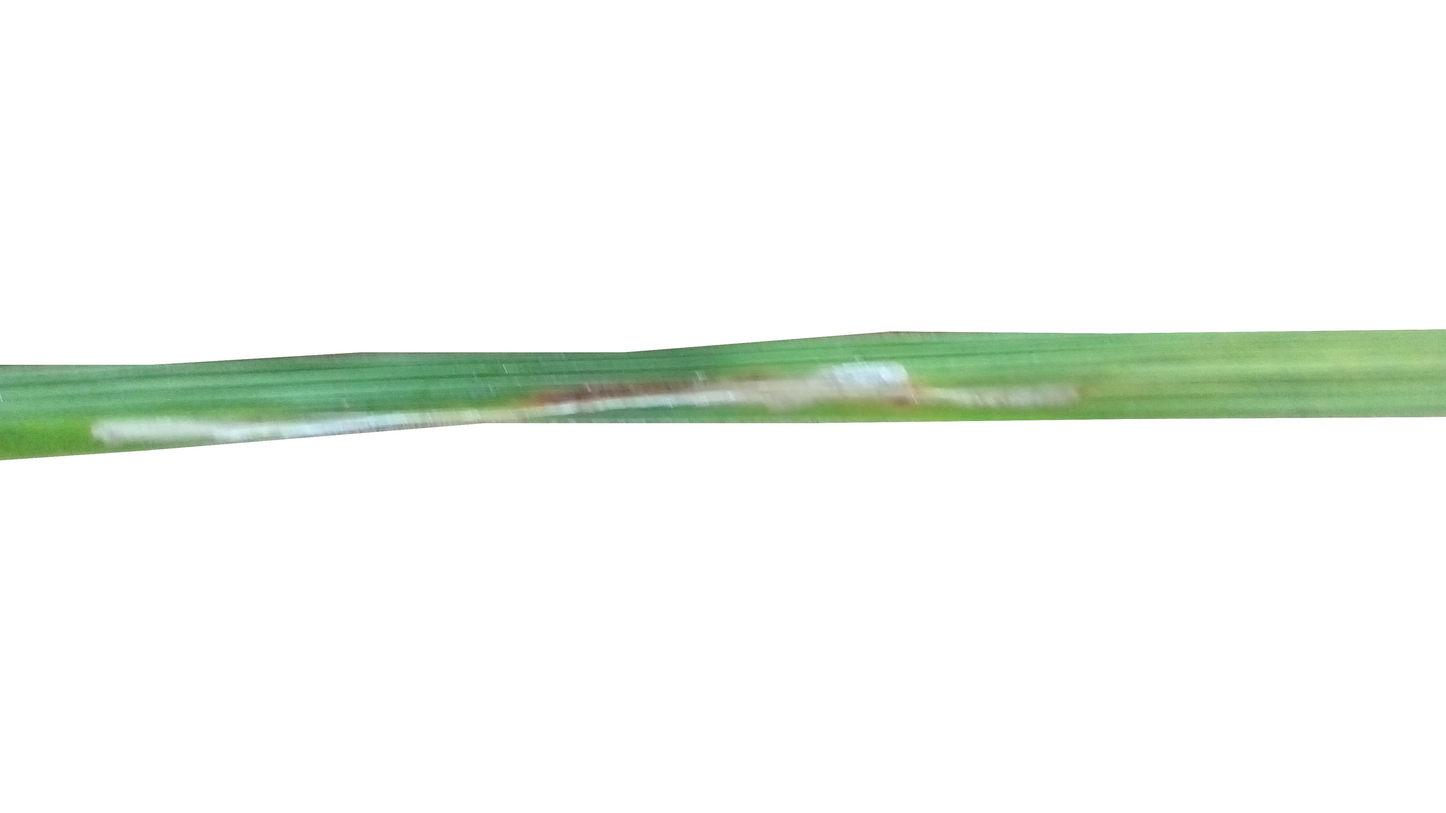Blight: (509, 382, 1098, 413), (90, 401, 355, 438)
